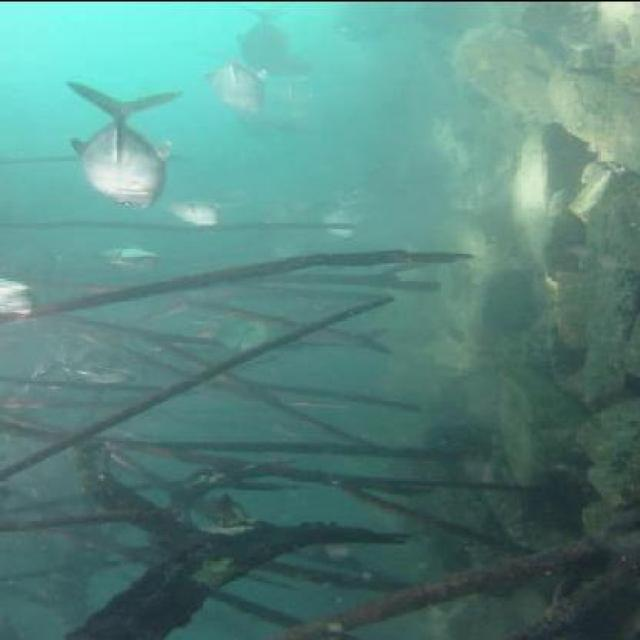Caranx_sexfasciatus_juvenile: (67, 78, 184, 213), (222, 3, 300, 72), (61, 339, 156, 384), (205, 53, 268, 116), (208, 312, 288, 356), (317, 189, 365, 246), (164, 192, 231, 230), (265, 79, 318, 127), (100, 241, 168, 273), (0, 268, 40, 318), (235, 108, 279, 137)
